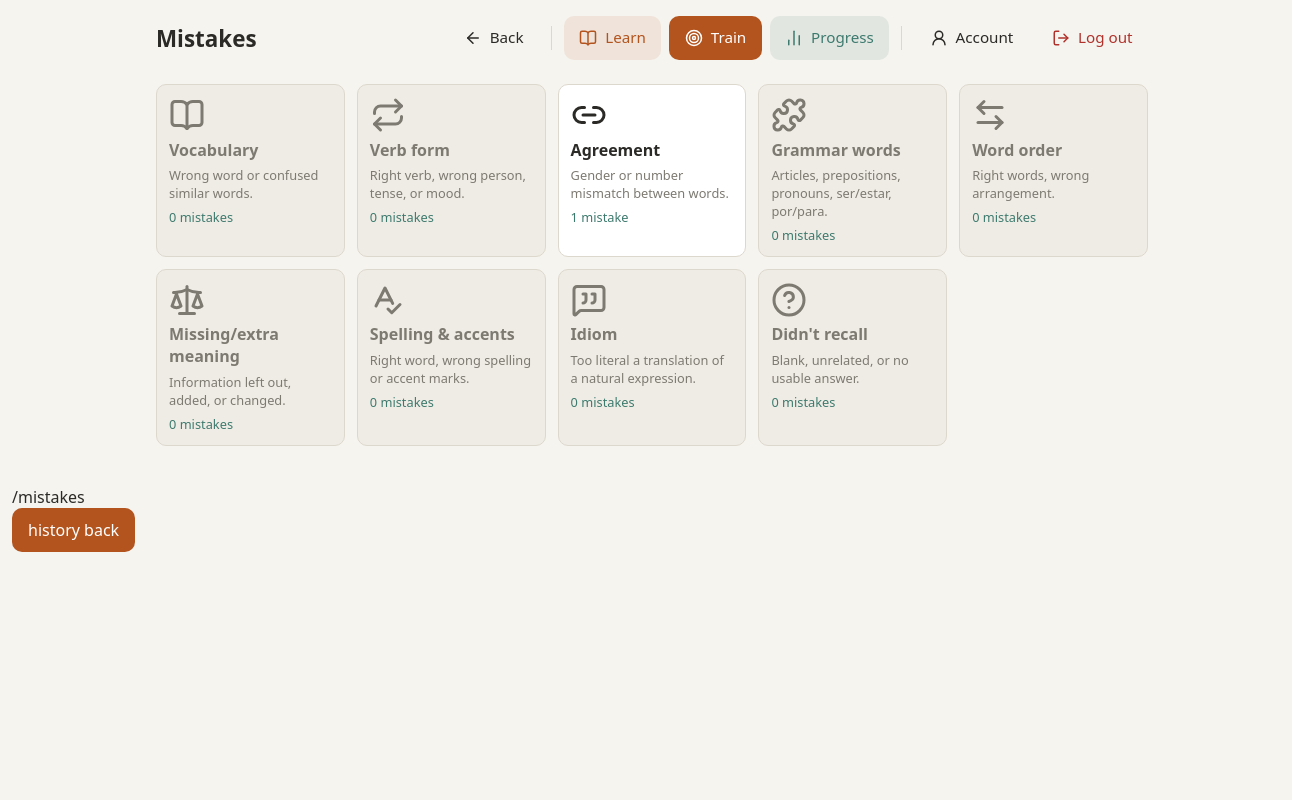
MistakesPage › links "Practice this mistake" to the transient practice session route
Expected: the text "Agreement" is shown, [571,139,660,161]
Click the button "Agreement Gender or number mismatch between words. 1 mistake". click: (652, 161)
box: [571,97,733,226]
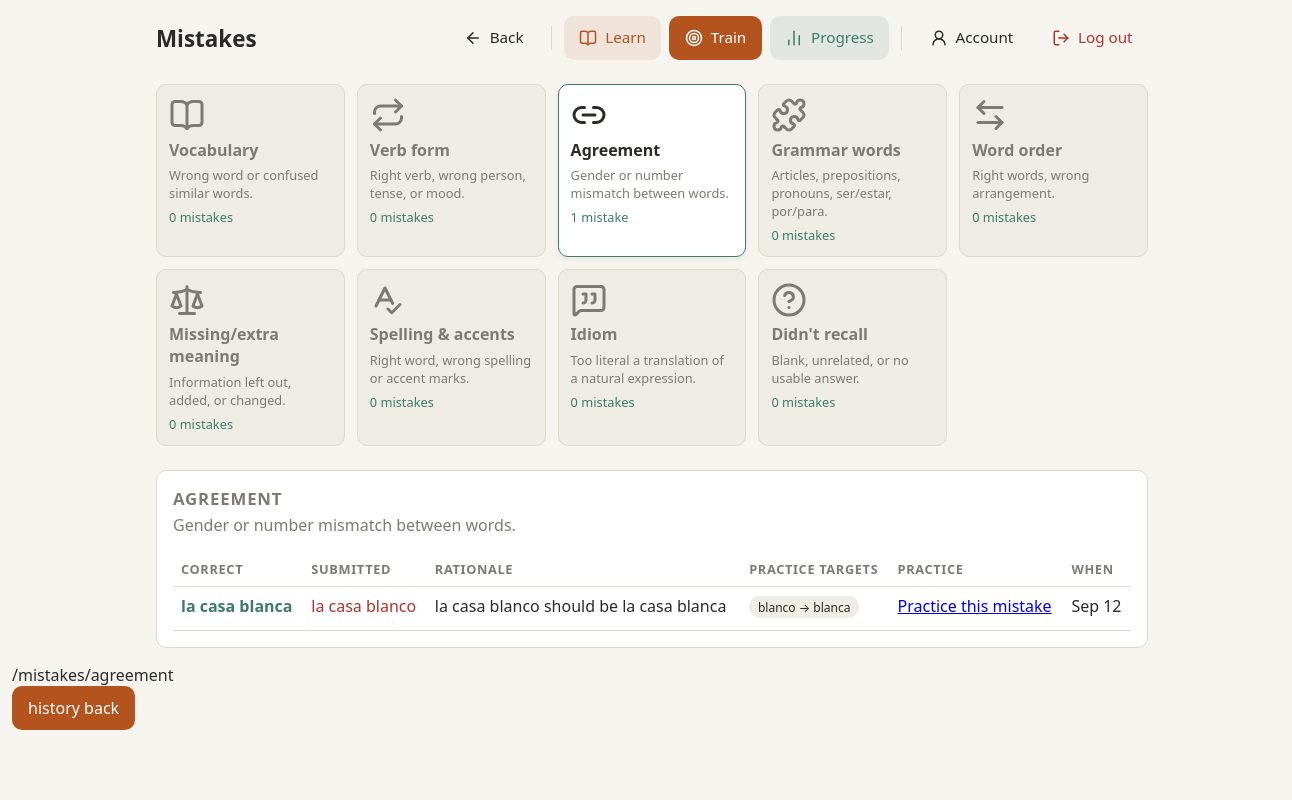
Result: the text "la casa blanca" is shown at [173,586,303,630]
